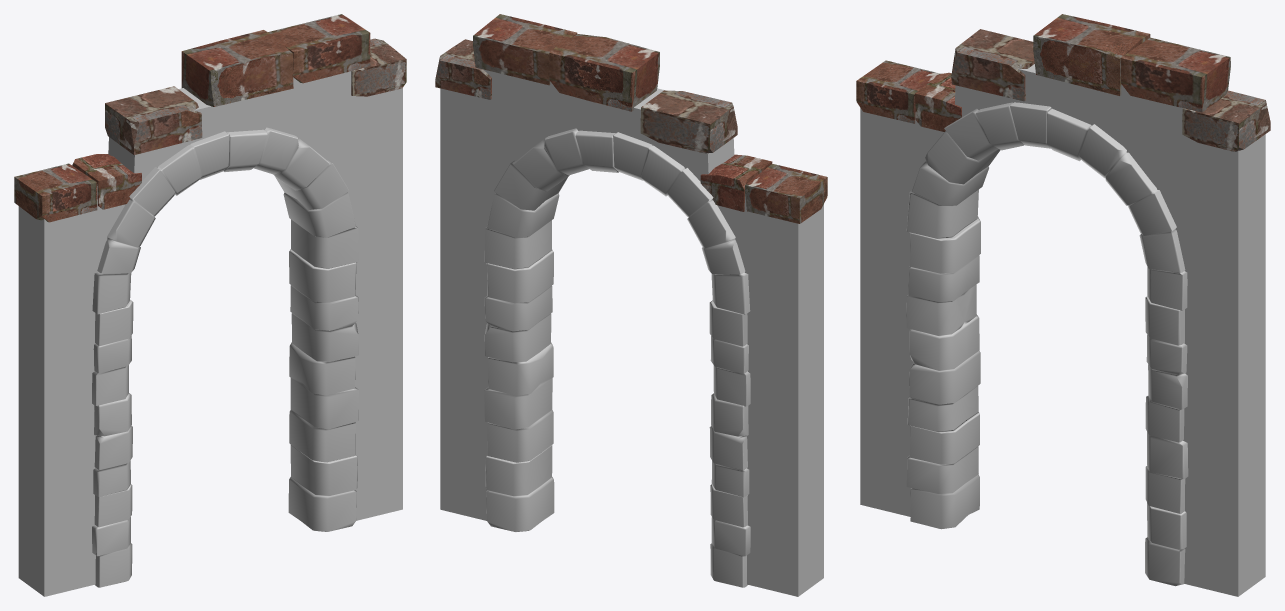
The model's file is SM_Archway_Ruined_01.fbx.
The picture shows the model from 3 angles, left to right: view 1: azimuth 30°, elevation 25°; view 2: azimuth 150°, elevation 25°; view 3: azimuth 330°, elevation 25°; orthographic projection. The views are drawn at different scales.
Visible parts, largest first — view 1: SM_Archway_Ruined_01_LOD0; view 2: SM_Archway_Ruined_01_LOD0; view 3: SM_Archway_Ruined_01_LOD0.
Part boxes in pixels (left/top/right/bottom): SM_Archway_Ruined_01_LOD0: left=14, top=14, right=406, bottom=596; SM_Archway_Ruined_01_LOD0: left=435, top=14, right=827, bottom=596; SM_Archway_Ruined_01_LOD0: left=856, top=14, right=1270, bottom=596.
Size of what is drawn, in the model's own units: 407 by 522 by 68.54.
